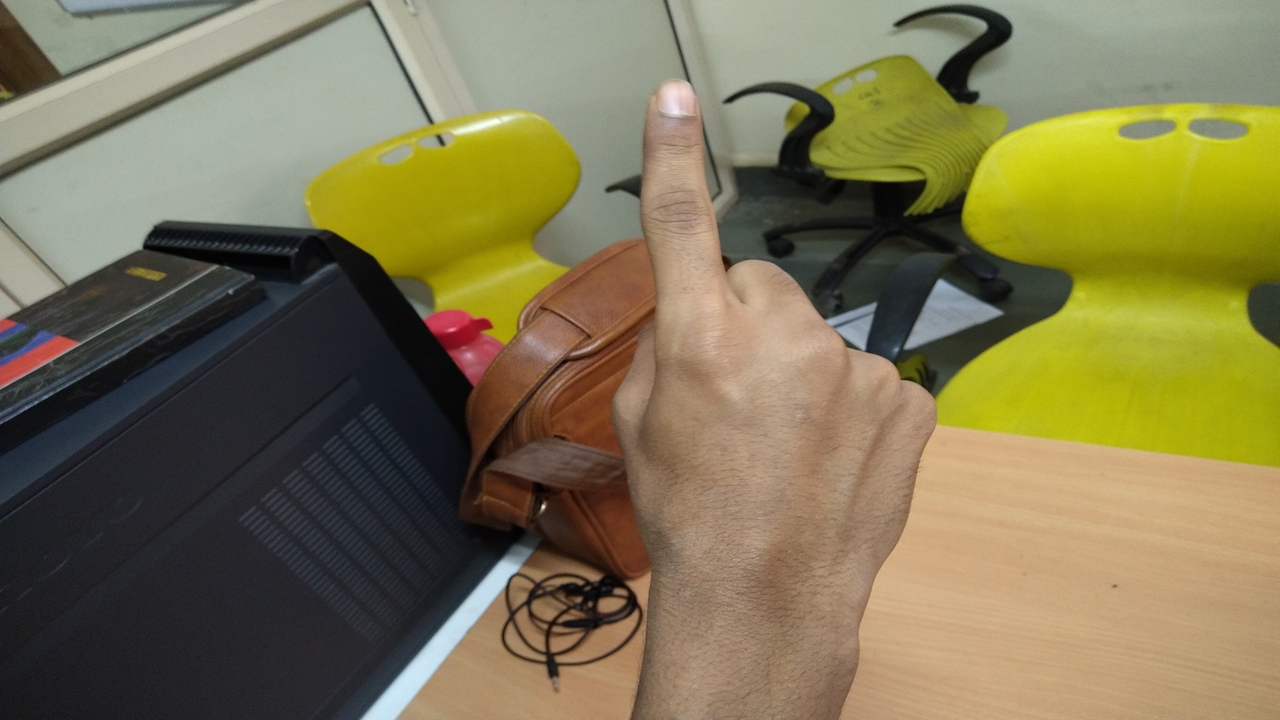fingertip: (640, 76, 704, 132)
